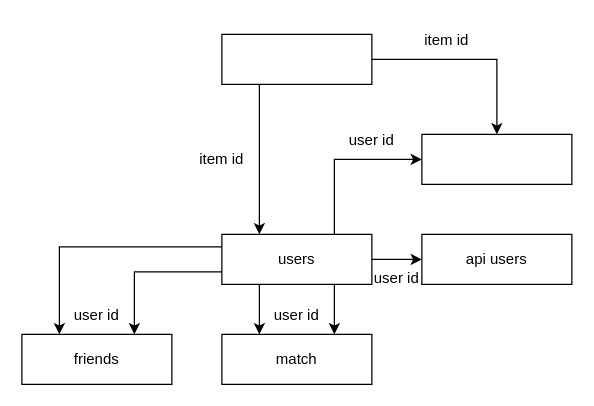
Some shapes in this 594 by 406 pixel diagram are drawn without their labels. Each missing label, with the centre of its shape:
"inventory" belongs at point 496,158.
"shop" belongs at point 296,58.
